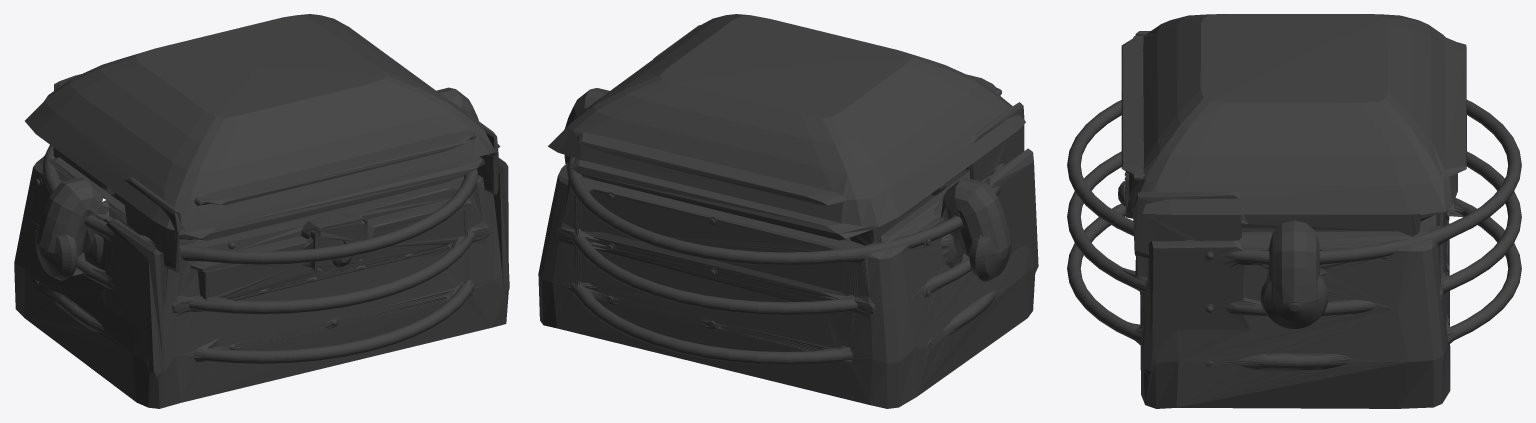
3 renders of one model, left to right at view 1: azimuth 30°, elevation 25°; view 2: azimuth 150°, elevation 25°; view 3: azimuth 270°, elevation 25°, orthographic. The views are drawn at different scales.
Visible parts, largest first — view 1: body, lid_panel, lock_plate, handle_l, front_hatch, foot_l, handle_r; view 2: lid_panel, body, handle_l, foot_l, handle_r; view 3: lid_panel, body, handle_r, lock_plate, foot_r.
Boxes of the visible parts, box(x1,y1,x2,y2) form: body: box(14, 96, 509, 408); lid_panel: box(25, 14, 500, 295); lock_plate: box(211, 85, 465, 273); handle_l: box(25, 92, 172, 331); front_hatch: box(153, 198, 472, 302); foot_l: box(25, 318, 136, 402); handle_r: box(436, 87, 478, 120); lid_panel: box(548, 14, 1025, 308); body: box(538, 79, 1038, 408); handle_l: box(874, 93, 1016, 394); foot_l: box(917, 274, 1027, 396); handle_r: box(564, 88, 609, 163); lid_panel: box(1121, 14, 1466, 298); body: box(1067, 100, 1521, 408); handle_r: box(1177, 156, 1408, 408); lock_plate: box(1118, 28, 1200, 218); foot_r: box(1177, 369, 1308, 407).
Size of the model in its own units: 80.55 by 44.99 by 68.7.
Materials: 1 (1 with a texture image).
